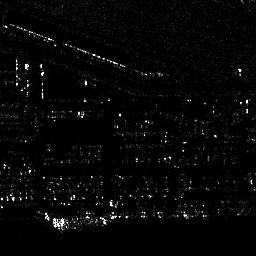ship: (48, 212, 125, 231)
